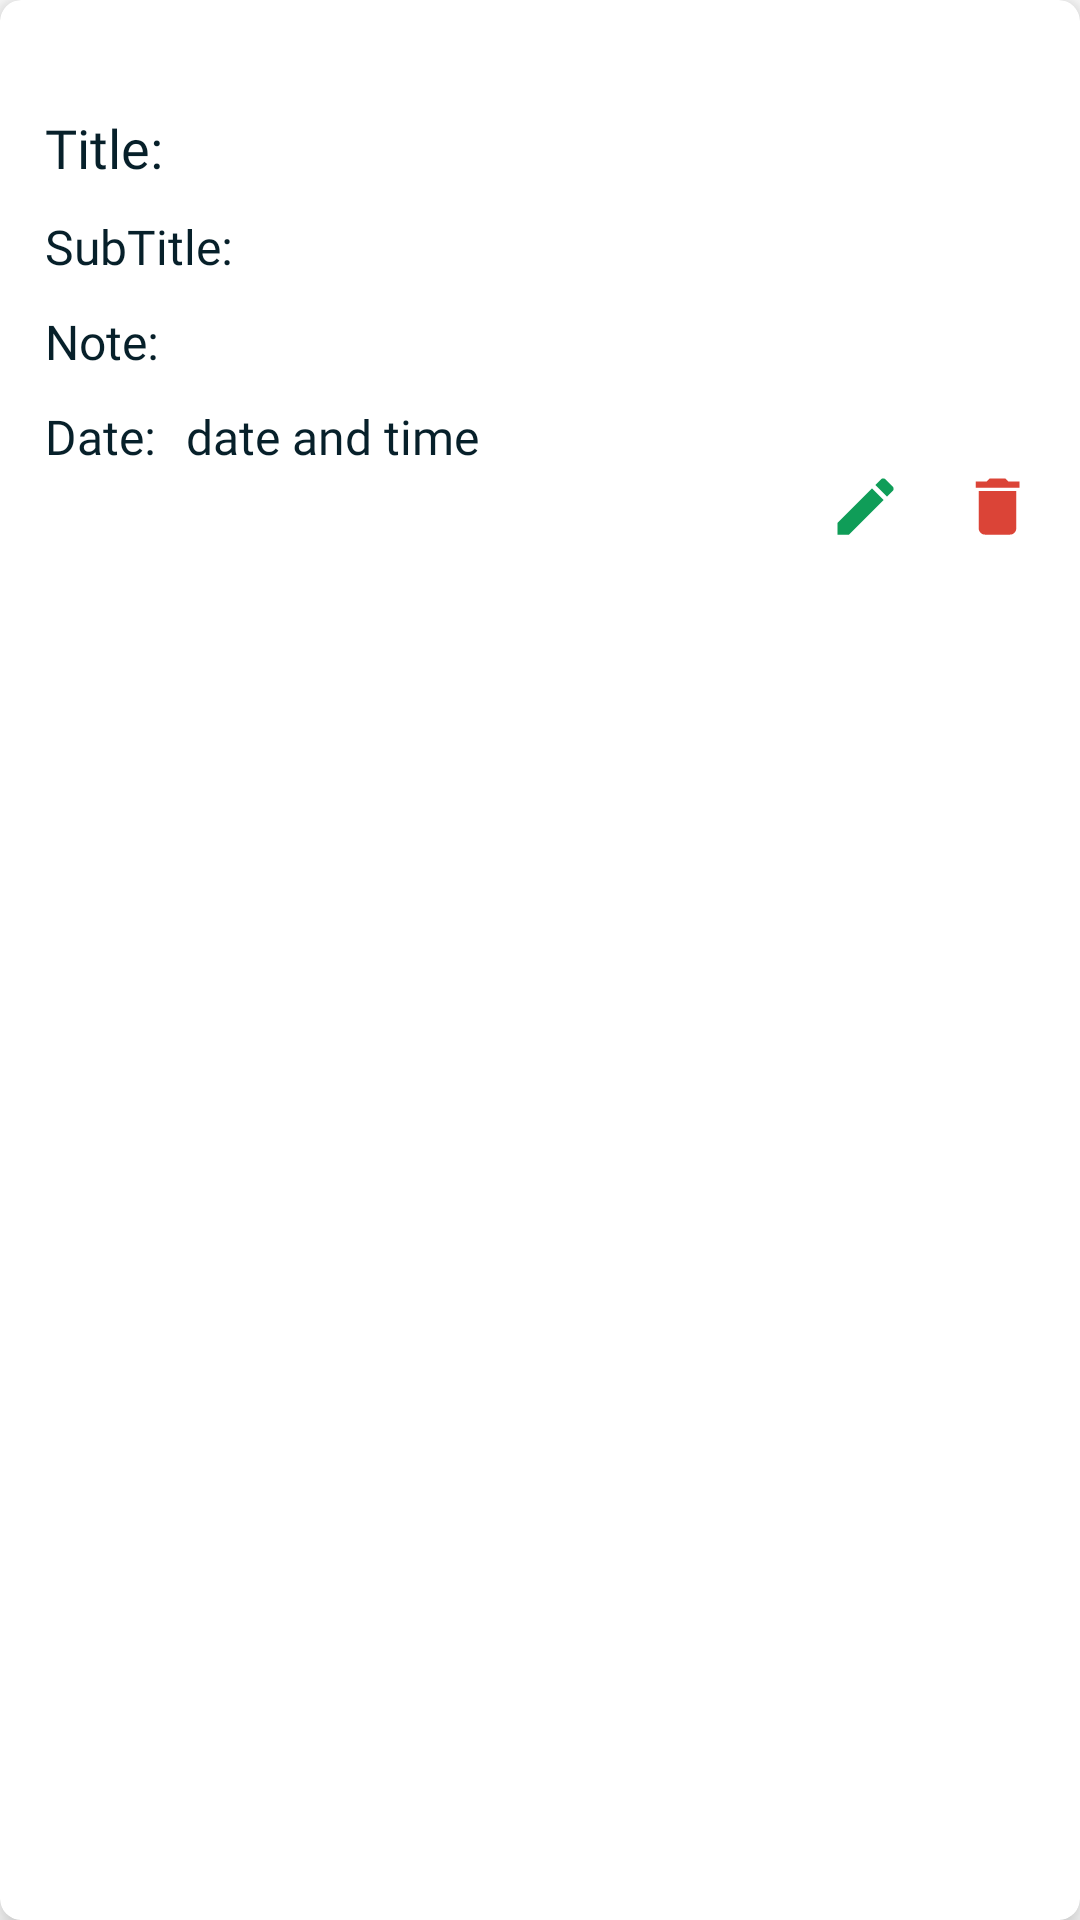

Locate icon controls on the screen. Image size 1080*1920, boxes as [x1, y1, x2, y2].
delete: [975, 478, 1020, 535]
edit: [837, 478, 894, 535]
